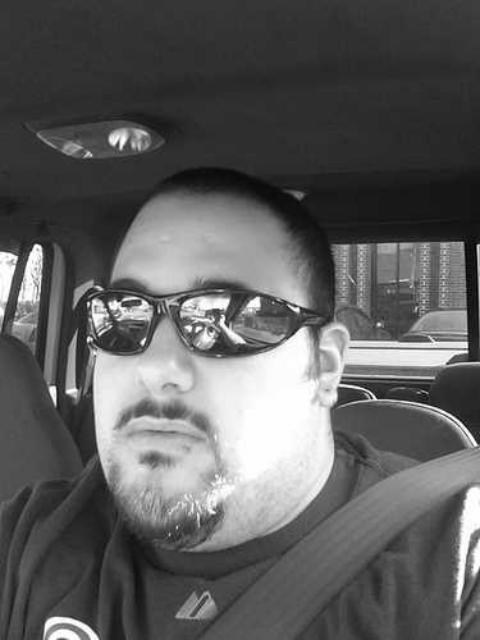Seatbelt: (192, 438, 480, 640)
